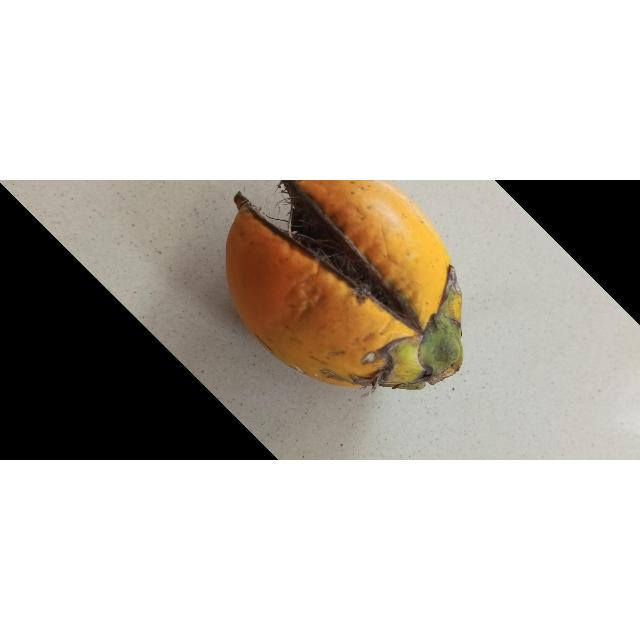damaged: (224, 180, 464, 392)
